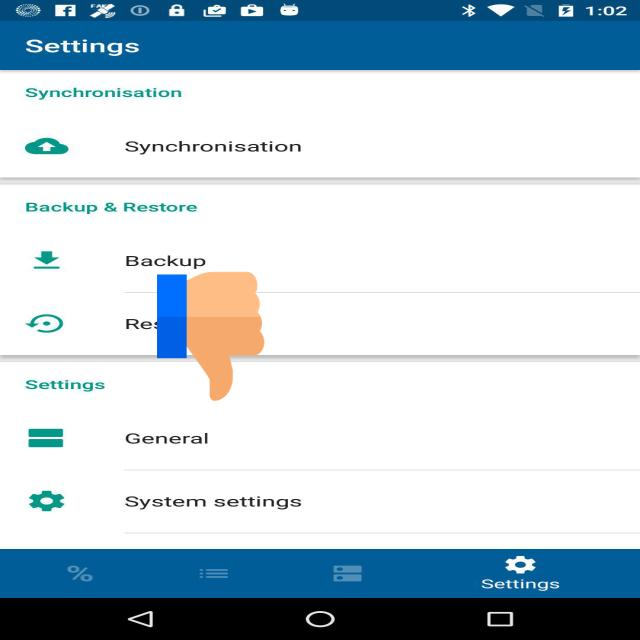obstruction: (157, 269, 264, 404)
